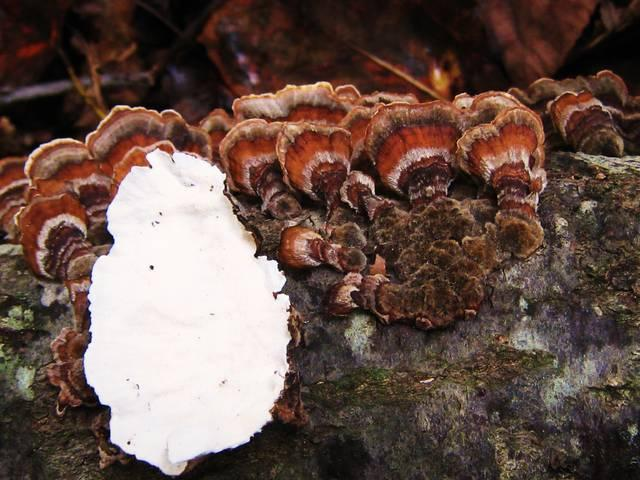poisonous_mushroom: (13, 69, 640, 287), (81, 144, 301, 476), (454, 103, 548, 258)
